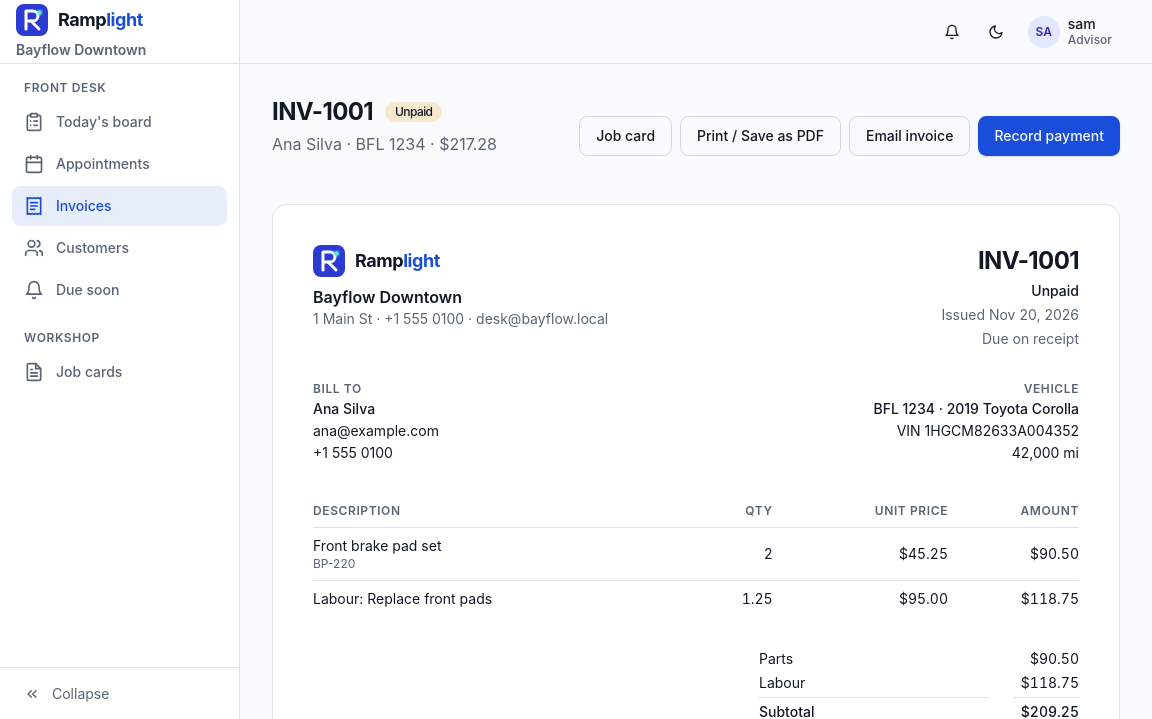
Test: invoices (R2a) › emails an issued invoice to the customer, or to an address typed in
Click the button "Email invoice".
click(910, 136)  # box [849,116,970,156]
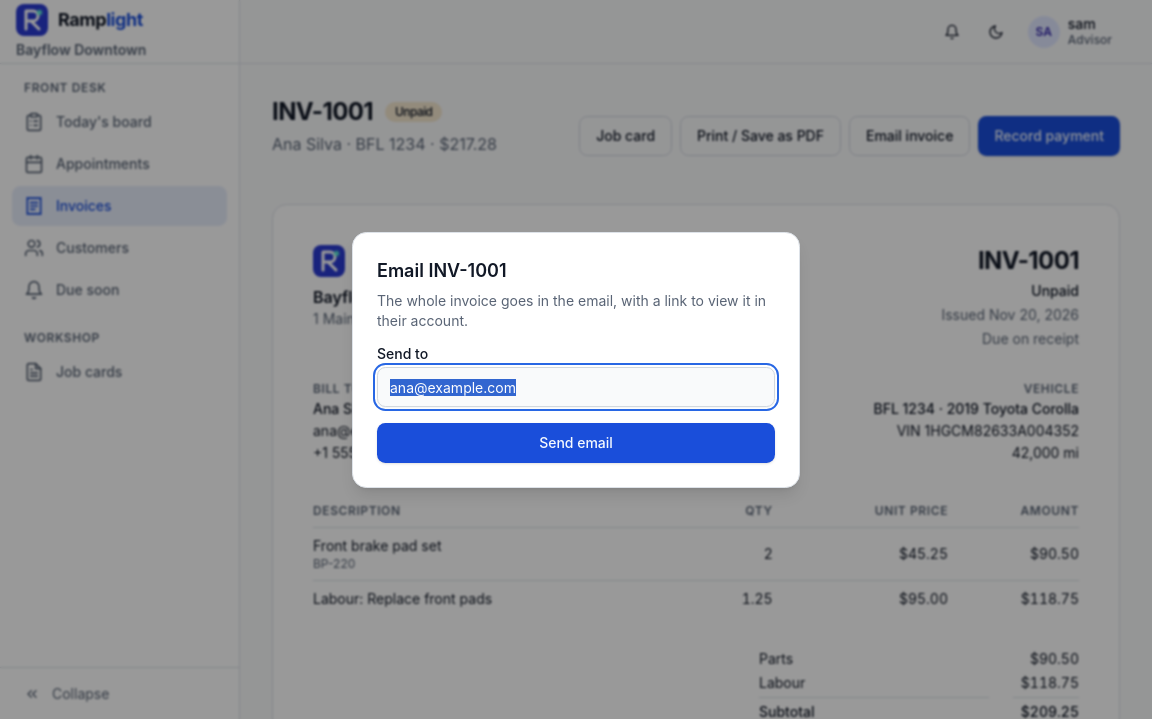
Expected: the field labelled "Send to" holds "ana@example.com"
Replace the text in the field labelled "Send to" with "not-an-address" at (576, 387), box [377,367,775,407]
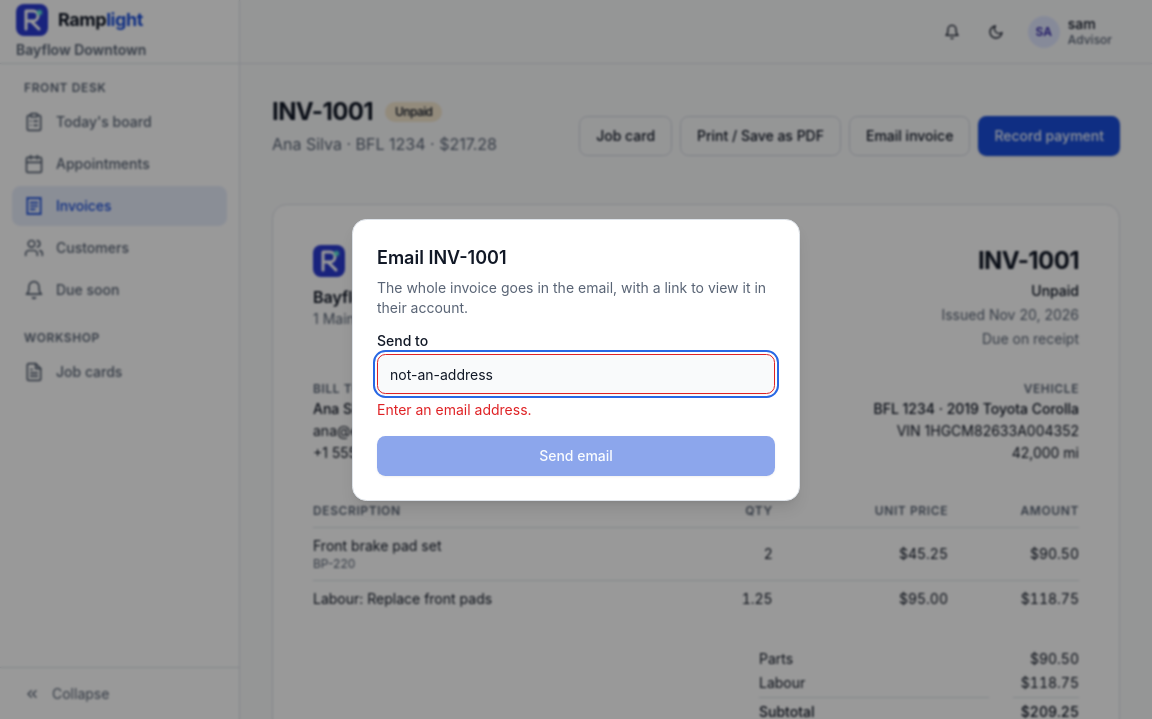
Expected: the button "Send email" is disabled, [377,436,775,476]
Clear the field labelled "Send to" at (576, 374), box [377,354,775,394]
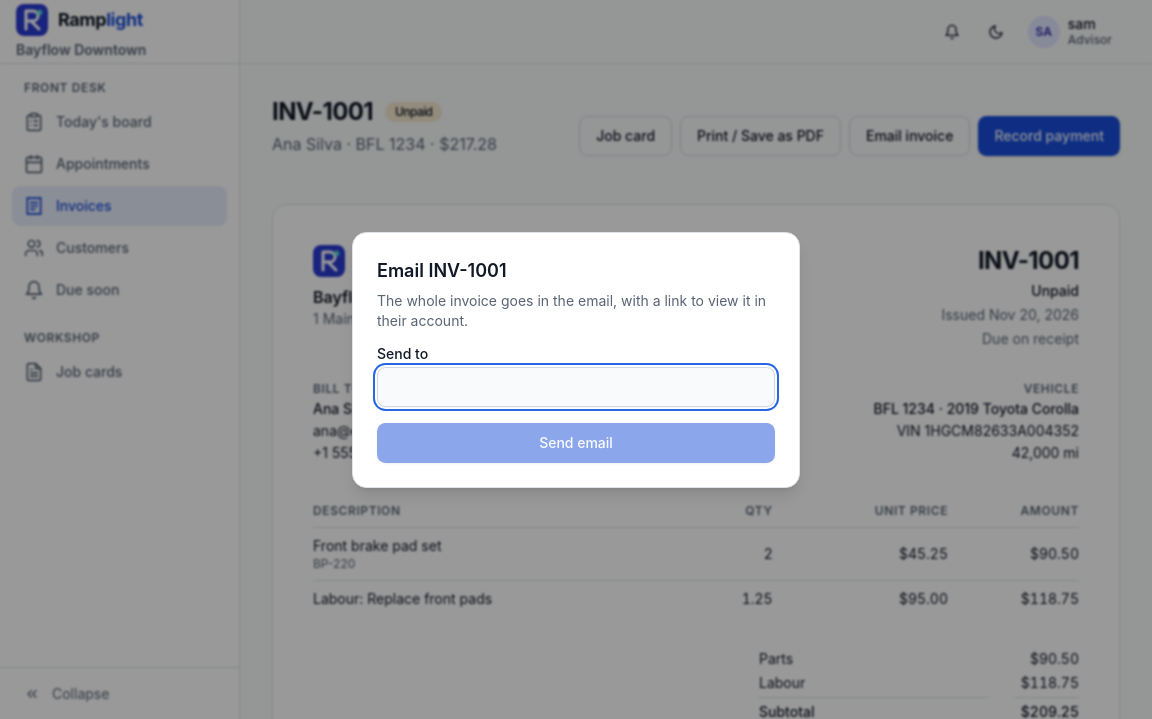
Type "accounts@example.com" into the field labelled "Send to".
click(576, 387); type("accounts@example.com")  # box [377,367,775,407]
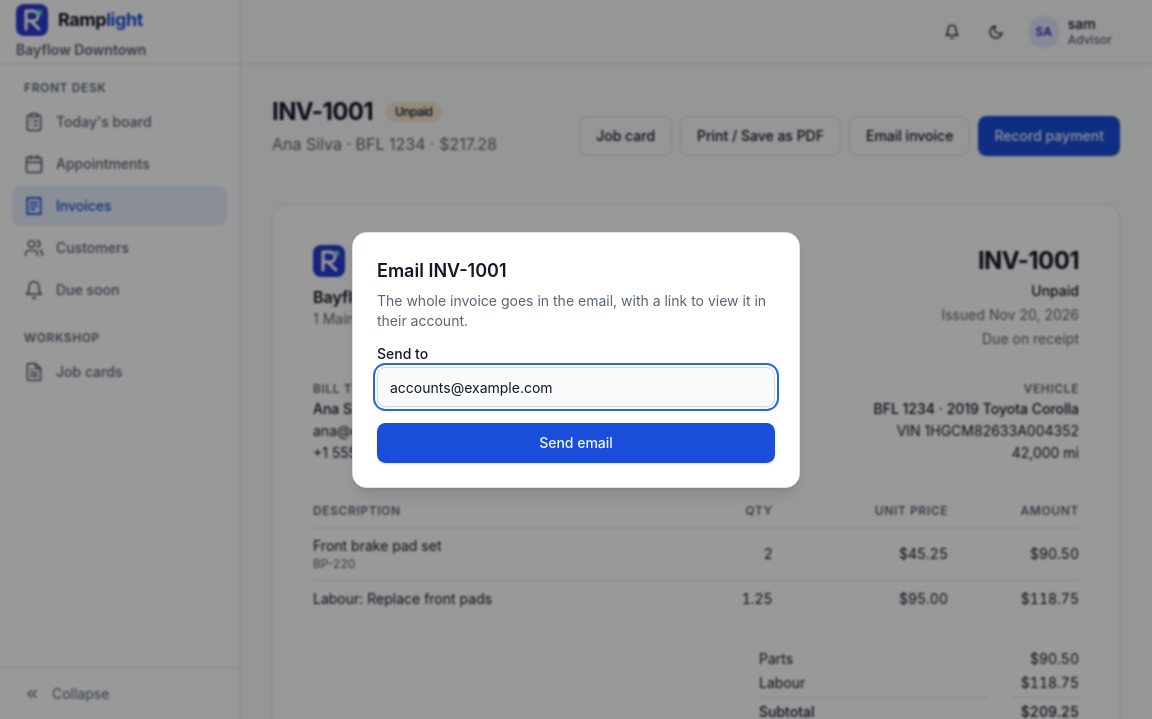
Click the button "Send email".
click(576, 443)  # box [377,423,775,463]
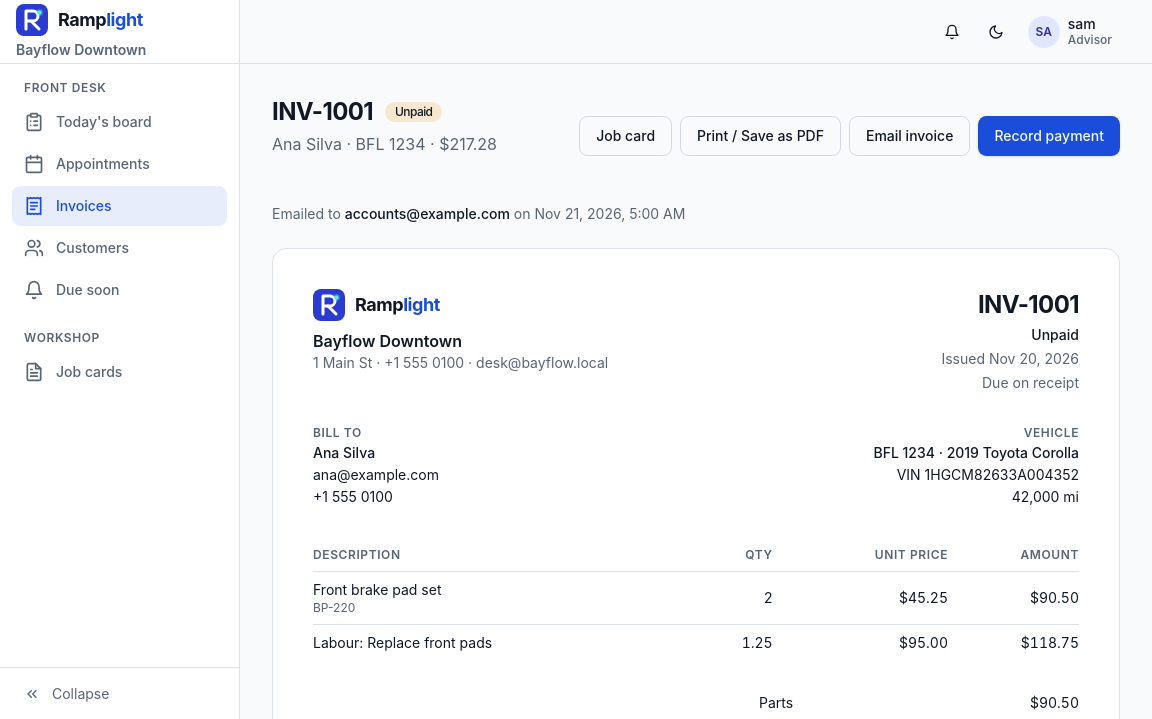
Expected: the element with test id "emailed" shows "Emailed to accounts@example.com", [272,205,685,222]
